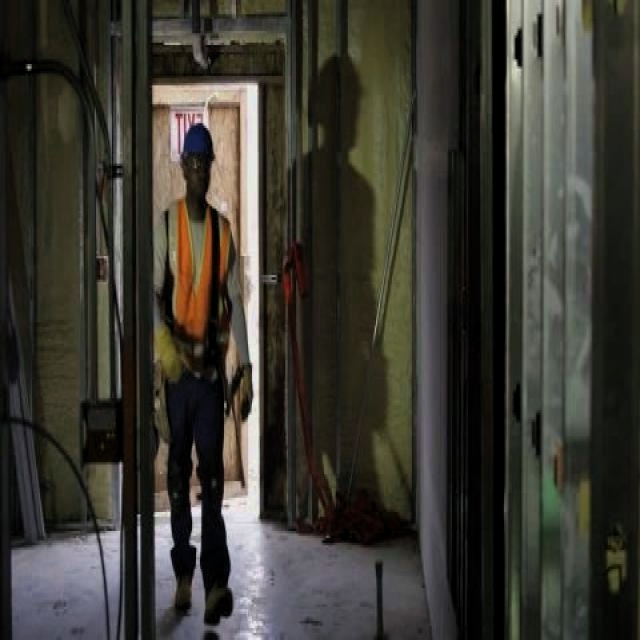Con_Chaleco: (164, 200, 233, 380)
